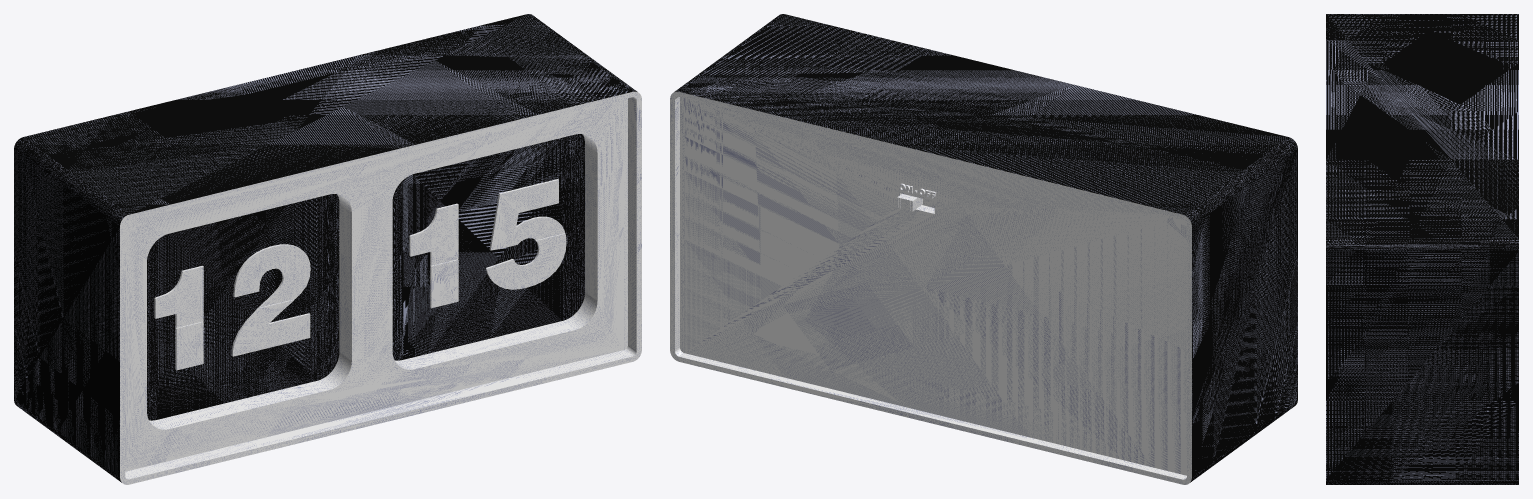
3 renders of one model, left to right at view 1: azimuth 30°, elevation 25°; view 2: azimuth 150°, elevation 25°; view 3: azimuth 270°, elevation 25°, orthographic. The views are drawn at different scales.
Visible parts, largest first — view 1: Component_3 (×5), Component_1, Component_2, instance_3, instance_4; view 2: Component_3 (×3); view 3: Component_3.
Part boxes in pixels (x1,y1,x2,y2): Component_3 (×5): [14, 14, 641, 484]; Component_1: [147, 194, 339, 420]; Component_2: [392, 134, 584, 360]; instance_3: [154, 244, 310, 370]; instance_4: [409, 179, 566, 308]; Component_3 (×3): [670, 14, 1297, 484]; Component_3: [1326, 14, 1518, 484].
Size of the model in its own units: 7.77 by 2.73 by 3.84.
